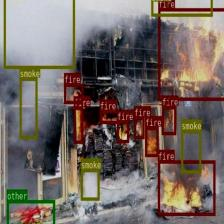fire: (158, 7, 224, 100), (158, 160, 215, 215), (161, 106, 176, 134), (64, 83, 82, 104), (145, 127, 158, 156), (73, 106, 83, 143), (99, 110, 120, 123), (117, 120, 129, 142), (134, 116, 144, 139)
smoke: (4, 0, 74, 68), (19, 78, 37, 138), (151, 0, 212, 15), (181, 130, 201, 172), (80, 168, 100, 200)
